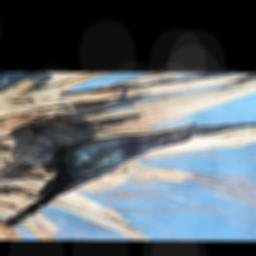Crow: (0, 122, 197, 229)
